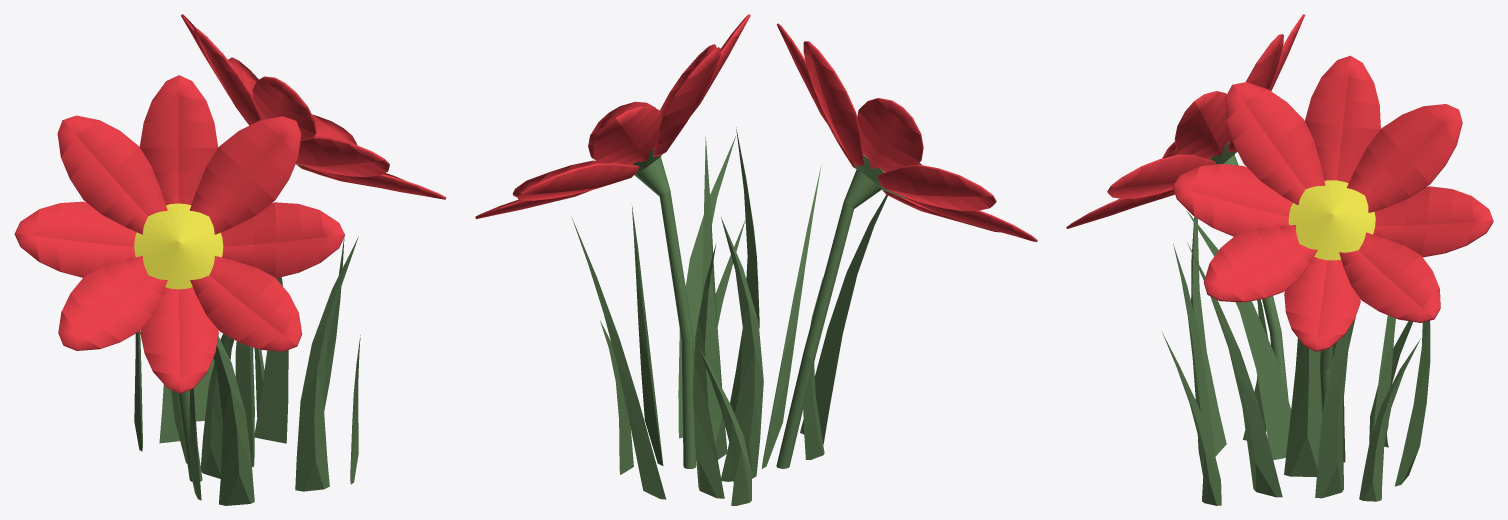
The model's file is Flower_R.fbx.
3 views of the same model, side by side, from view 1: azimuth 30°, elevation 25°; view 2: azimuth 150°, elevation 25°; view 3: azimuth 270°, elevation 25° (orthographic). The views are drawn at different scales.
Visible parts, largest first — view 1: Flower_R_LOD_0; view 2: Flower_R_LOD_0; view 3: Flower_R_LOD_0.
Boxes of the visible parts, x1=… form: Flower_R_LOD_0: x1=14, y1=14, x2=446, y2=505; Flower_R_LOD_0: x1=475, y1=14, x2=1037, y2=505; Flower_R_LOD_0: x1=1066, y1=14, x2=1493, y2=505.
Size of what is drawn, in the model's own units: 44.79 by 41.03 by 38.89.
